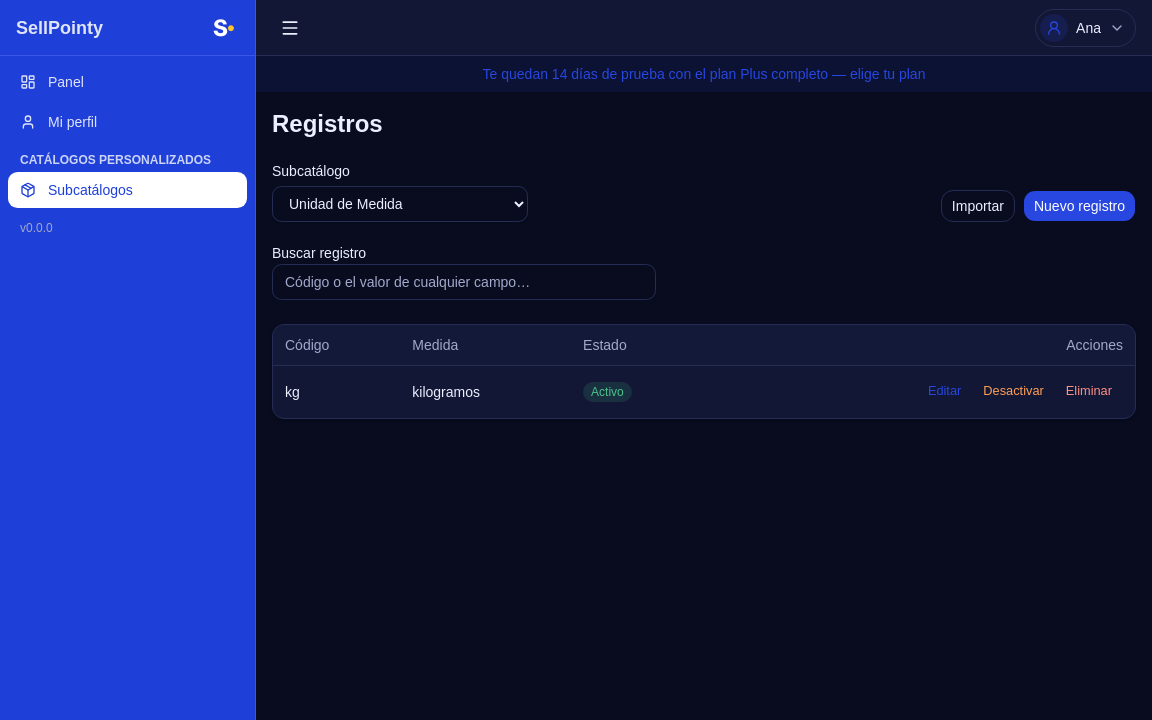
Test: Eliminar un registro (2026-08-25) › el primer clic PREGUNTA nombrando el código; nada viaja todavía
The image size is (1152, 720).
Check: the text "kg" is shown, box [273,365,400,418]
Click the button "Eliminar": coordinates (1089, 392) [1055,378,1123,406]
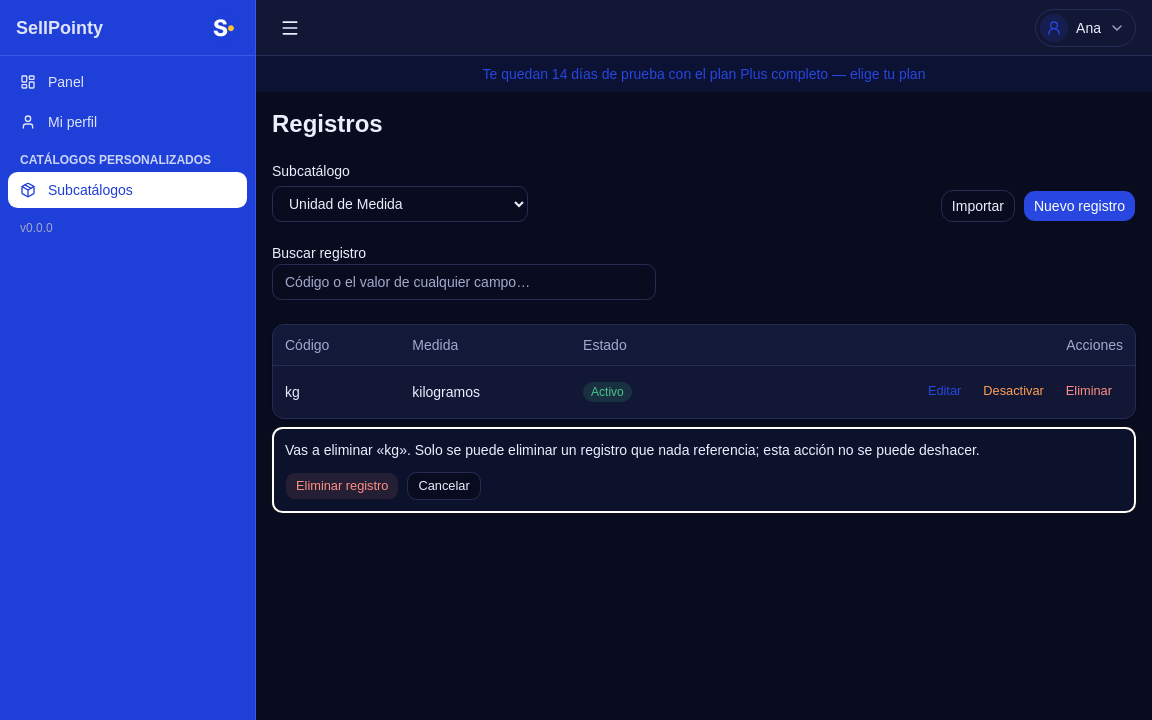
Check: the dialog with test id "delete-record-dialog" shows "kg", box [285,442,980,458]
